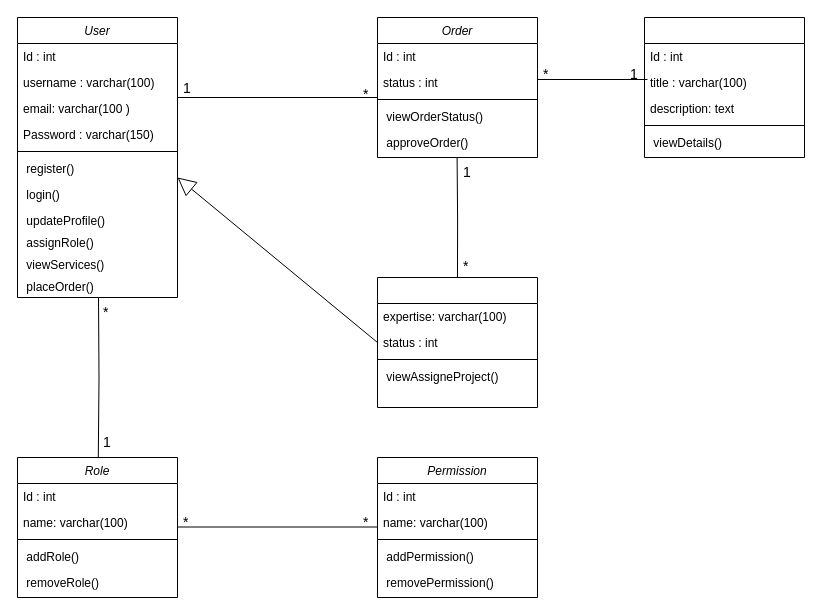
Image size: 822x616. Some labels were removed from this diagram. Here are the shapes that lost their labels. From the top down, the box of each, then its label:
(644, 16, 804, 158): Service
(376, 276, 538, 408): Developer
